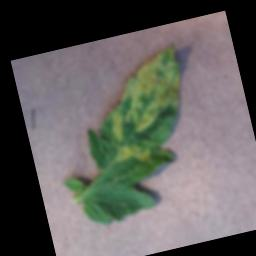Leaf_Mold: (109, 43, 191, 135), (108, 138, 152, 171), (105, 108, 128, 146)
